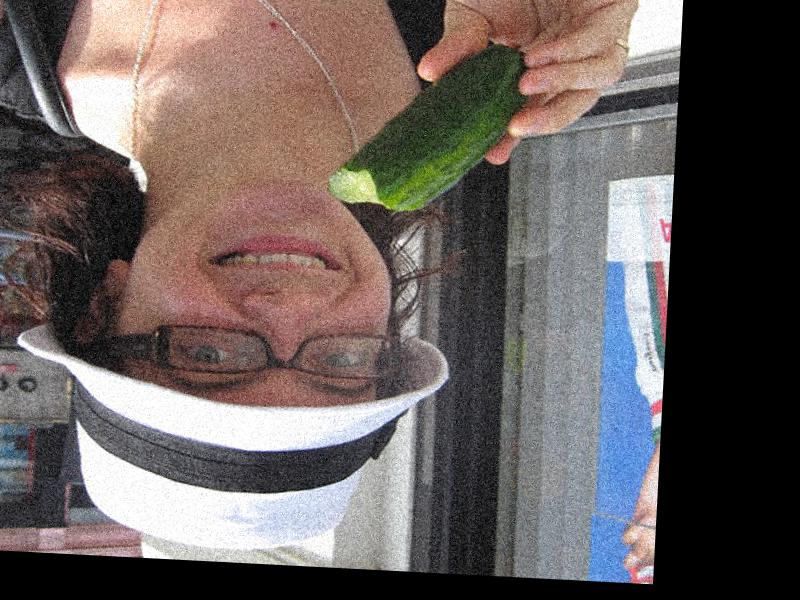Cucumber: (330, 36, 533, 217)
